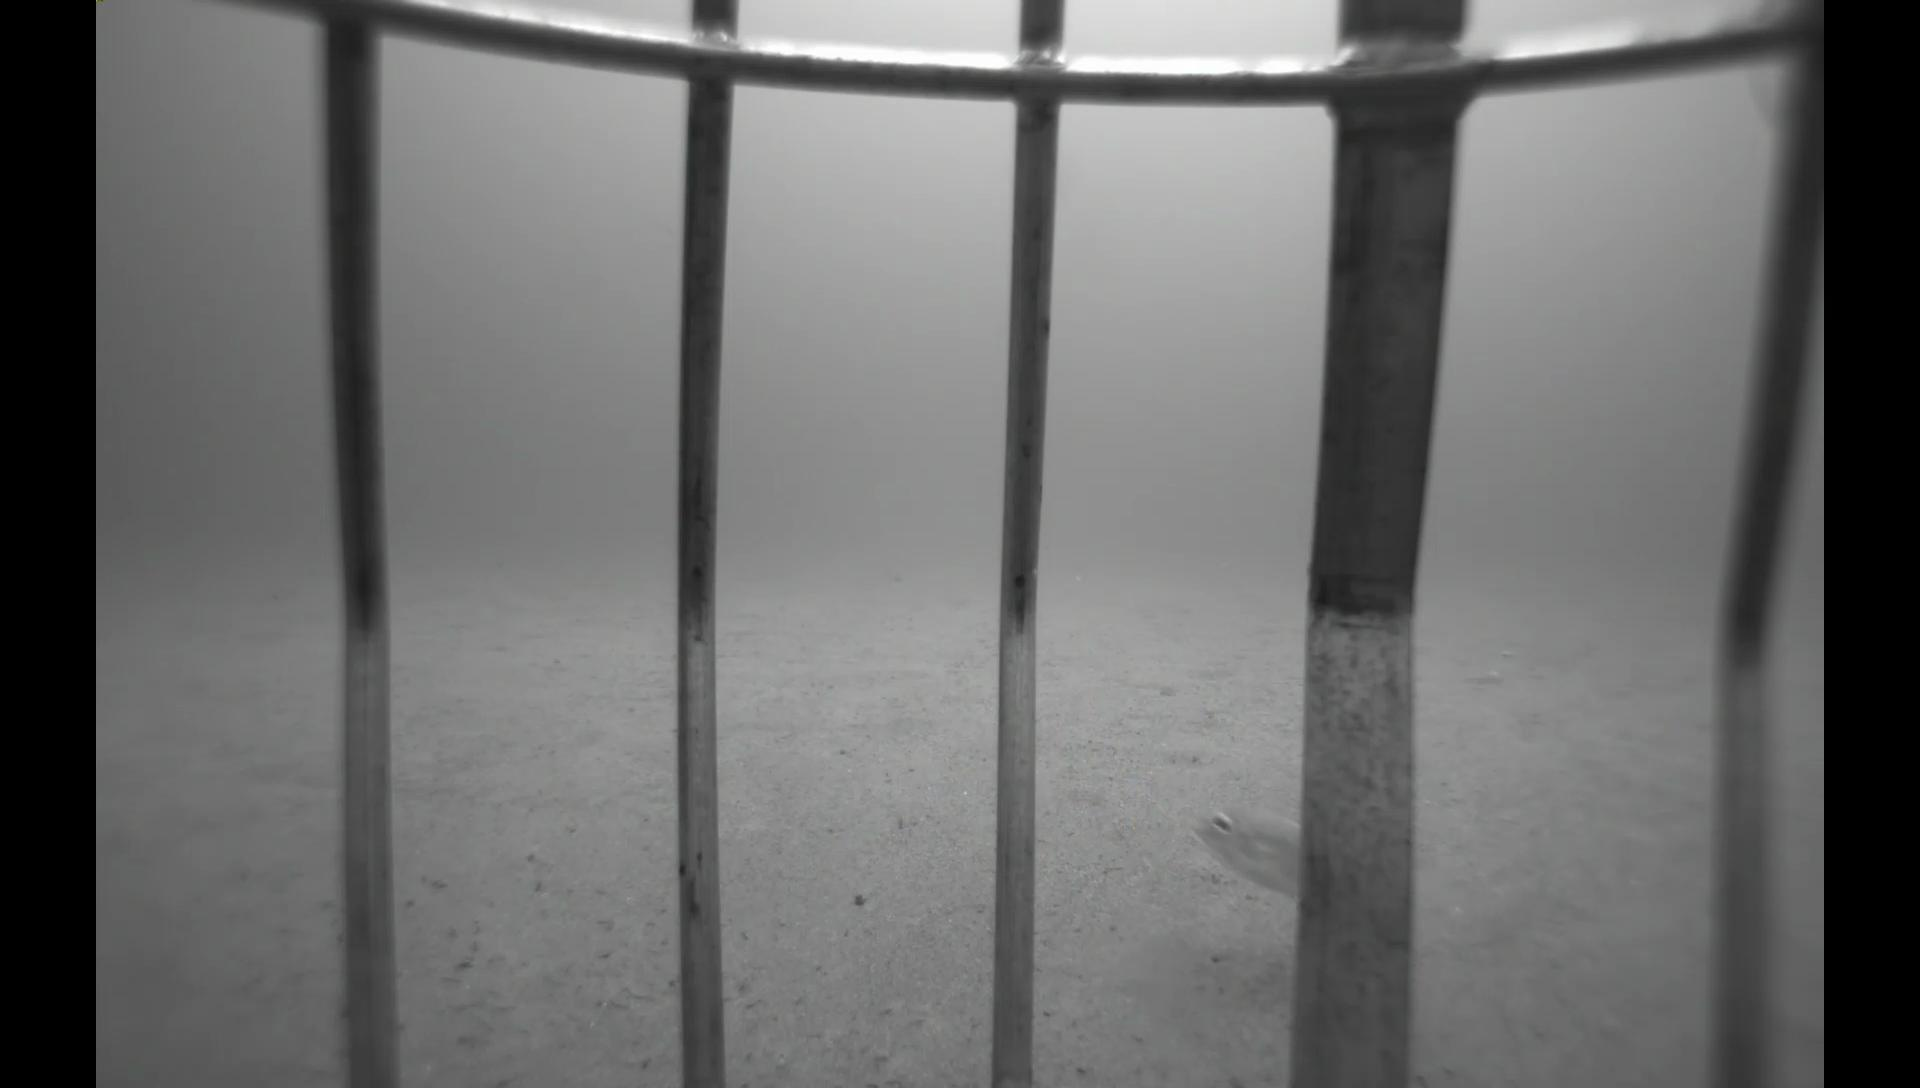PRISTIPOMOIDES-170151800: (1178, 785, 1302, 913)
